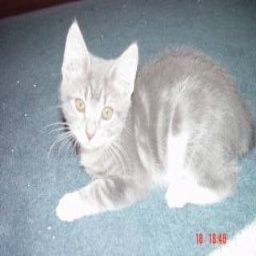cat: (47, 9, 256, 214)
